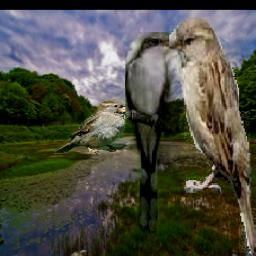Cuckoo: (125, 32, 182, 233)
Sparrow: (169, 16, 256, 256), (53, 99, 131, 154)
